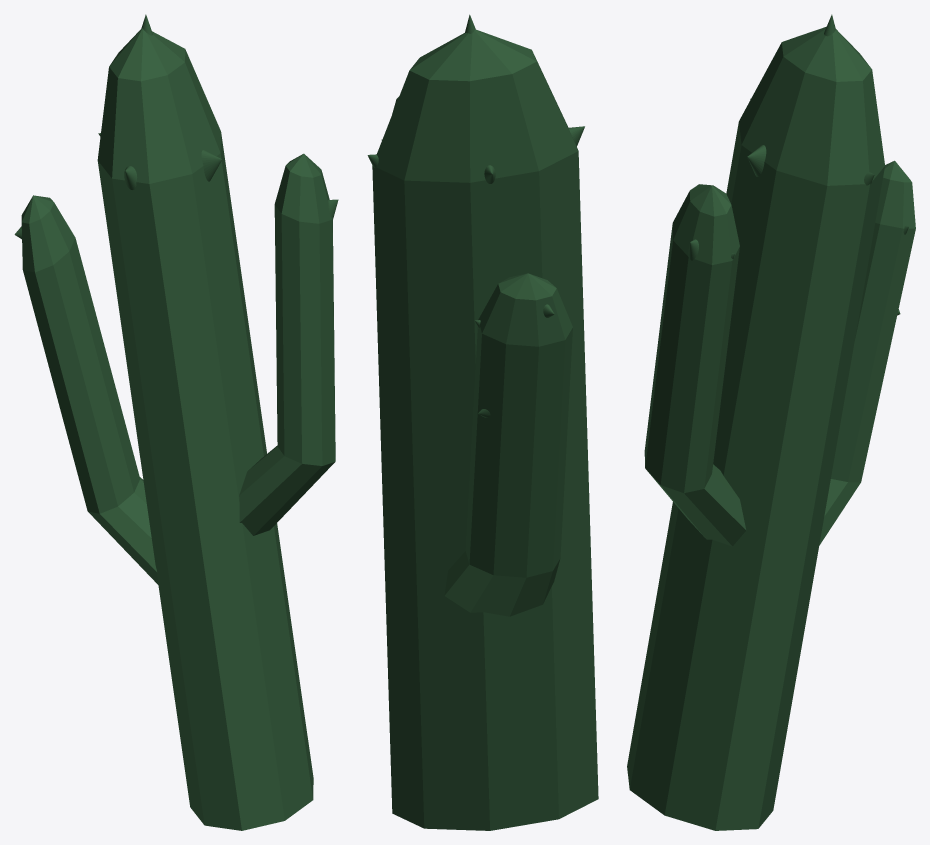
The model's file is cactus.fbx.
3 renders of one model, left to right at view 1: azimuth 30°, elevation 25°; view 2: azimuth 150°, elevation 25°; view 3: azimuth 270°, elevation 25°, orthographic. The views are drawn at different scales.
Visible parts, largest first — view 1: cactus; view 2: cactus; view 3: cactus.
Part boxes in pixels (left/top/right/bottom): cactus: left=14, top=14, right=338, bottom=830; cactus: left=367, top=14, right=598, bottom=830; cactus: left=627, top=14, right=915, bottom=830.
Bounding box in the file's own units: 3.19 × 9.9 × 3.4.
1 material, 1 textured.
